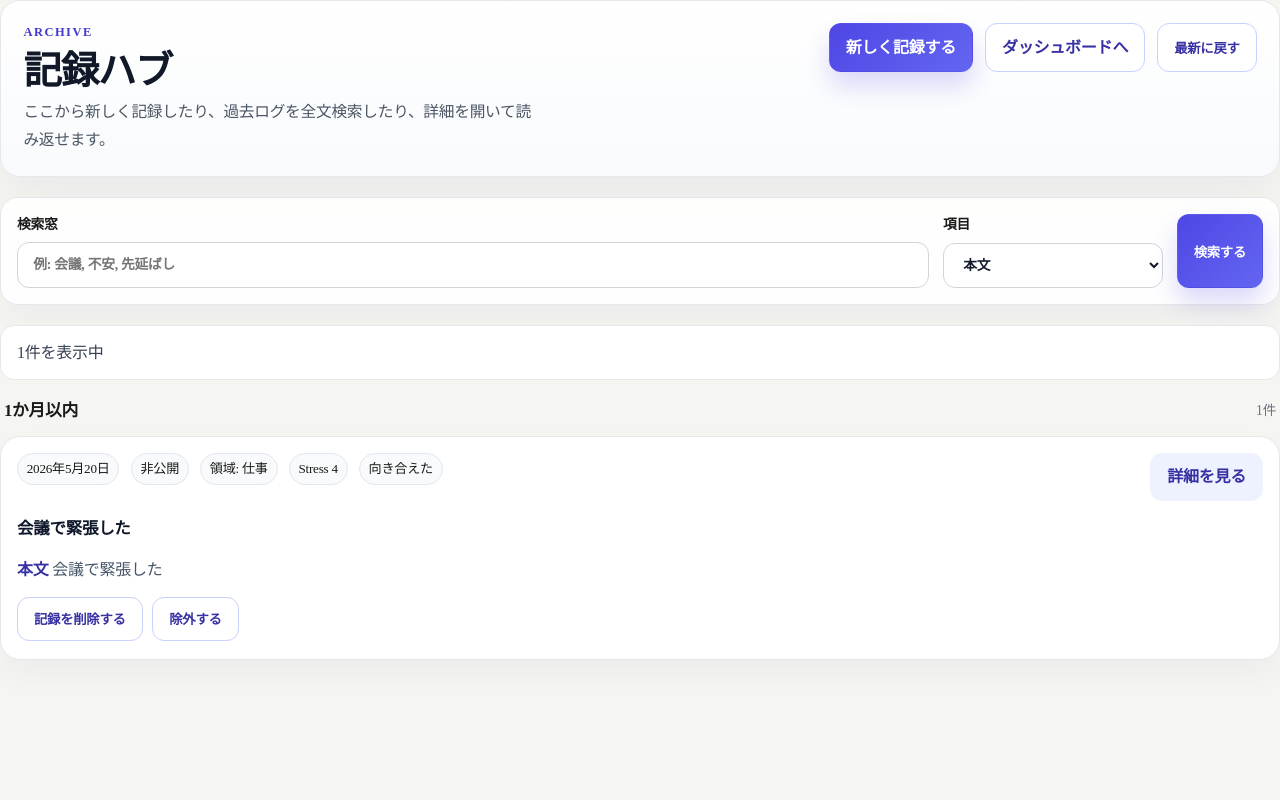
it: LogsClient › requests server-side search and replaces the list with results
The image size is (1280, 800).
Type "不安" into the search field labelled "検索窓". click: (473, 265)
box: x1=17 y1=242 x2=930 y2=288
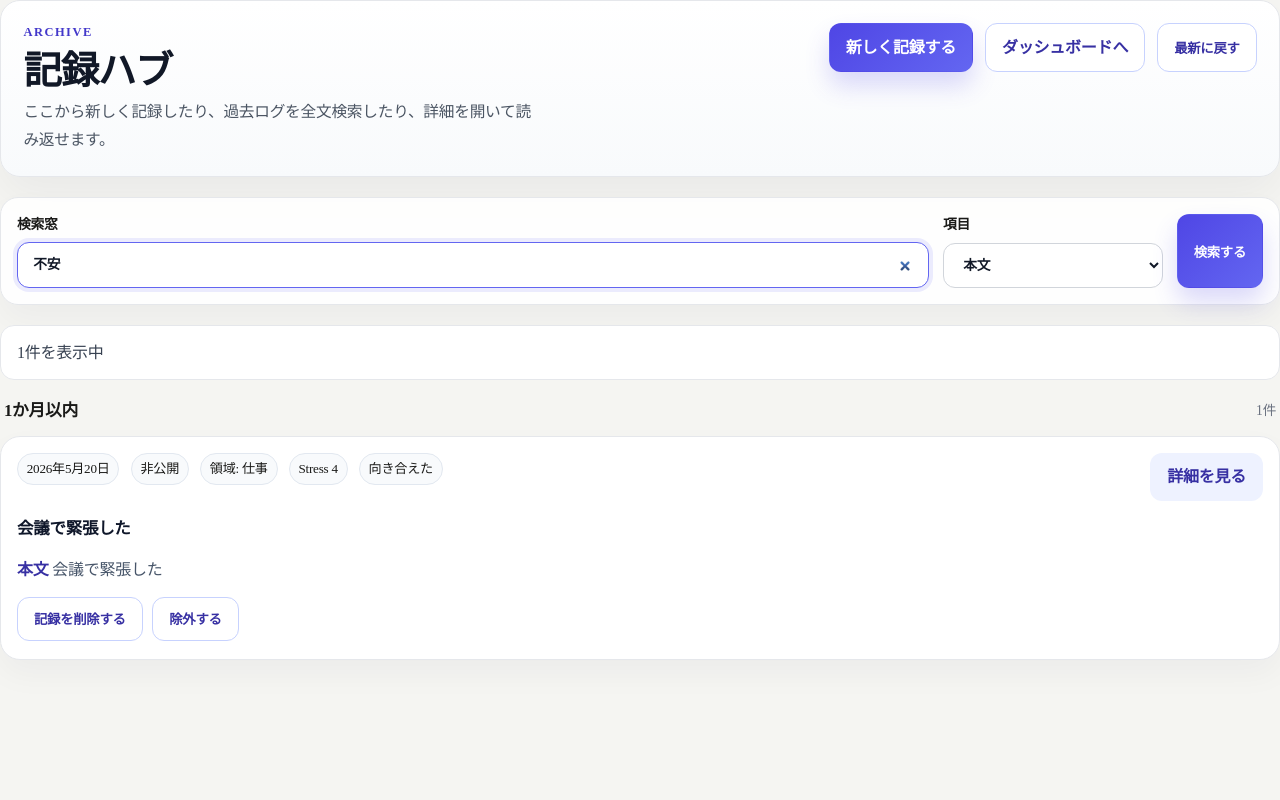
Select "状況" in the dropdown labelled "項目". click: (1053, 266)
box: x1=943 y1=243 x2=1163 y2=288
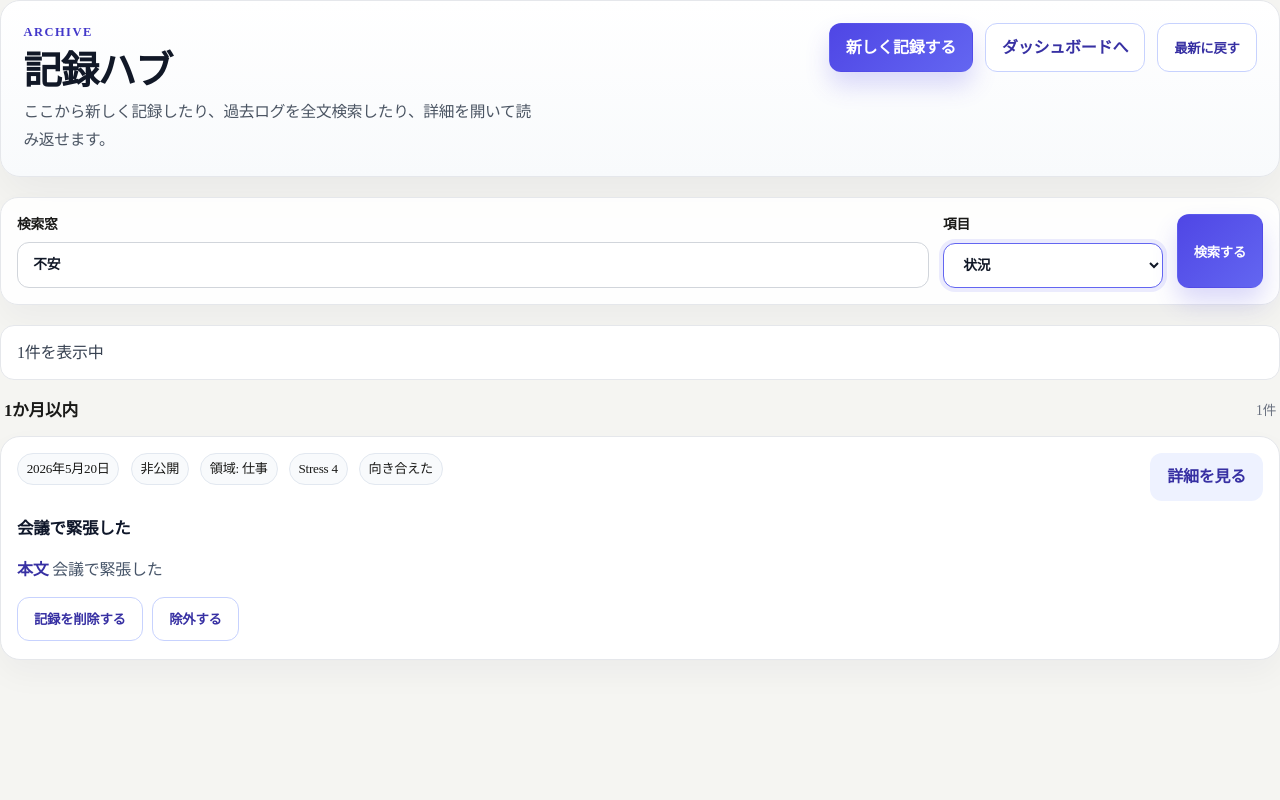
Click the button "検索する". click: (1220, 251)
box: x1=1177 y1=214 x2=1263 y2=288
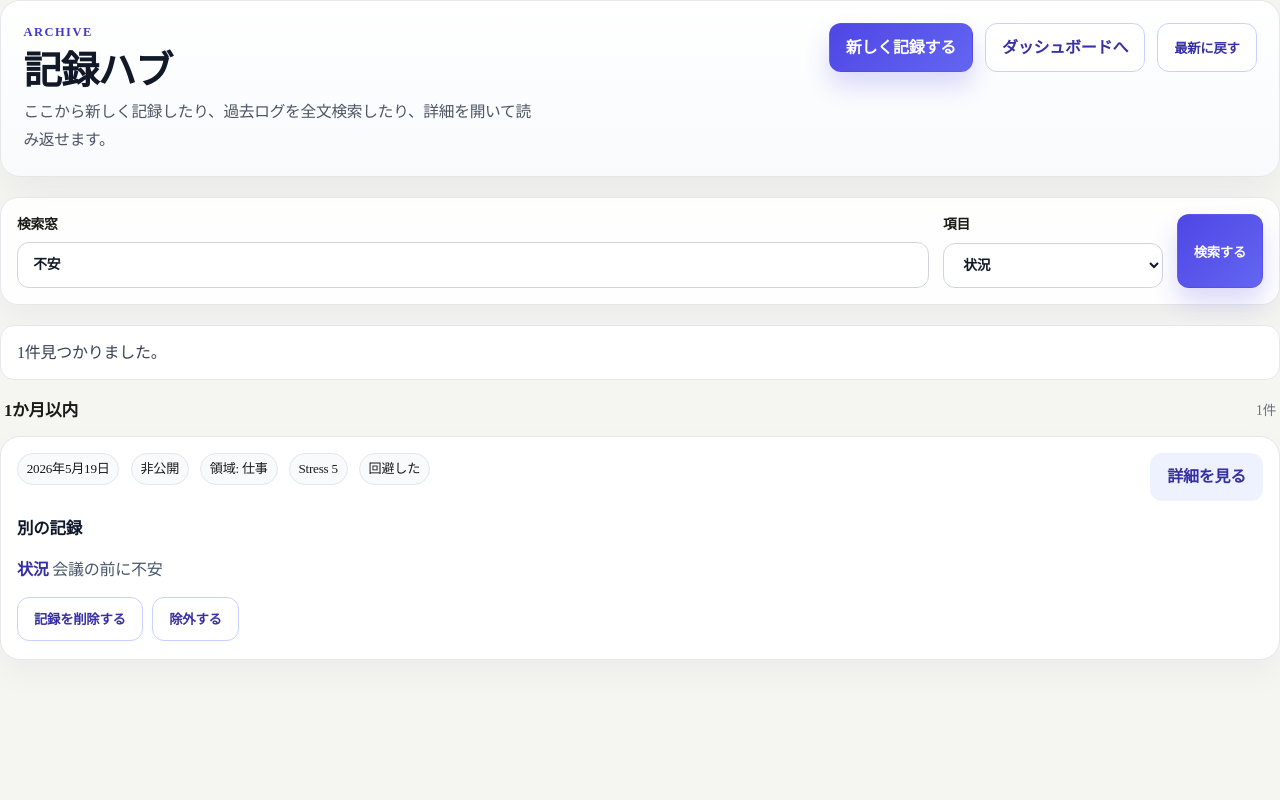
Check: the text "別の記録" is shown, box x1=17 y1=518 x2=82 y2=538
Check: the text "会議の前に不安" is shown, box x1=52 y1=561 x2=163 y2=578
Check: the text "1件見つかりました。" is shown, box x1=0 y1=326 x2=1279 y2=380
